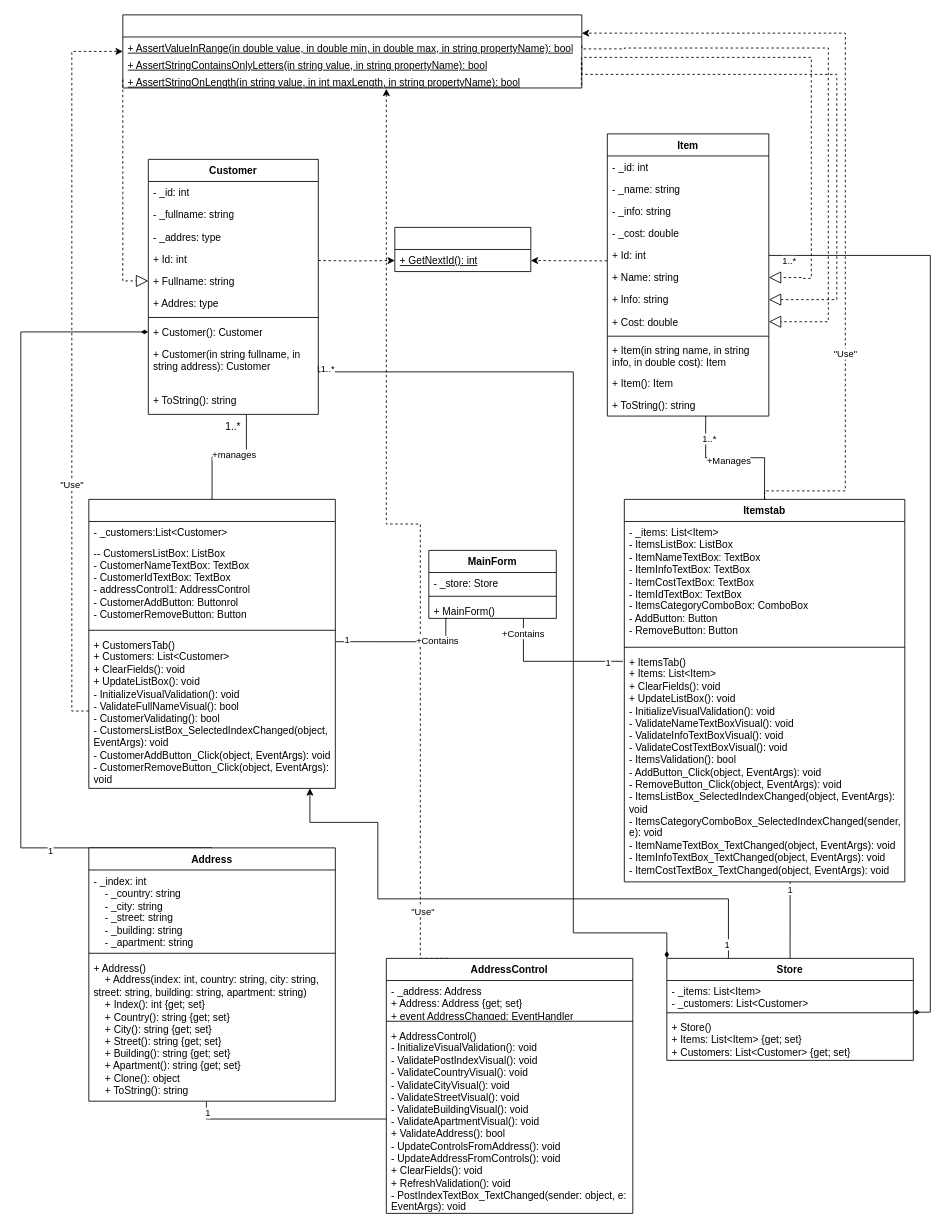
The diagram is 952 pixels wide and 1231 high, and some of its shapes have lost their labels. Each missing label, with the box of its shape:
Customertab: (88, 499, 335, 788)
IdGenerator: (394, 227, 531, 272)
ValueValidator: (122, 14, 582, 88)
